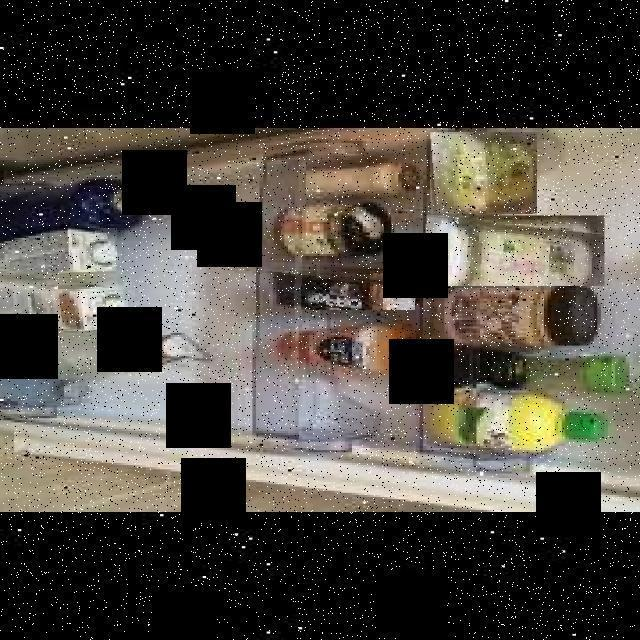guacamole: (427, 132, 533, 214)
milk: (0, 275, 124, 330), (0, 228, 117, 283)
yogurt: (423, 215, 601, 286), (267, 264, 416, 310), (290, 159, 421, 199)
